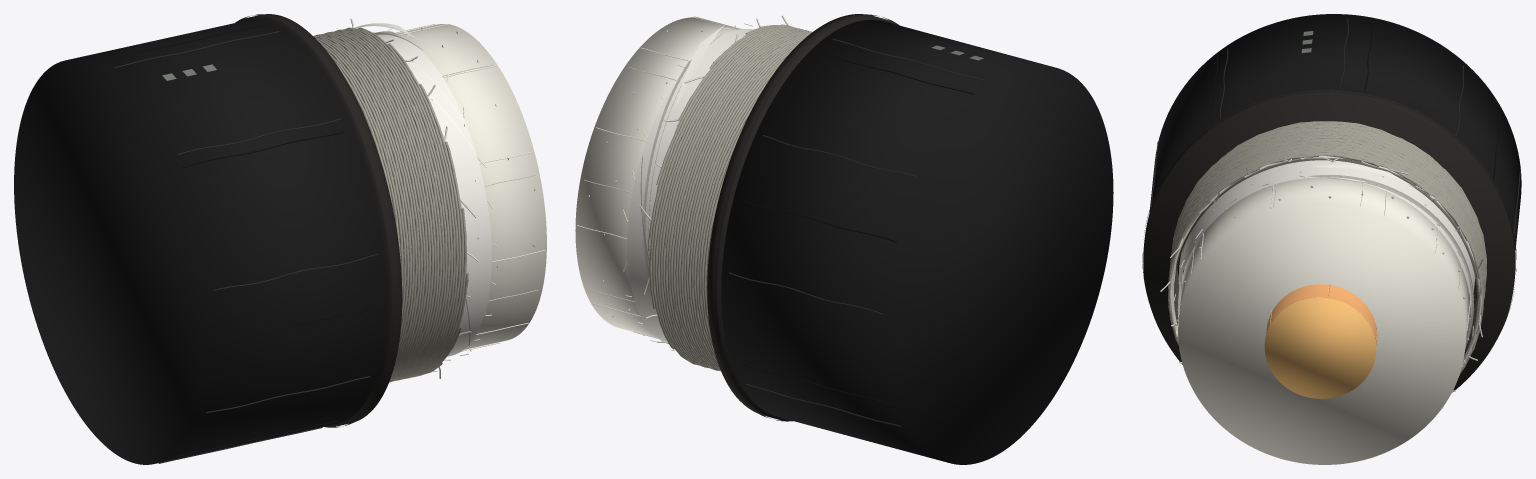
The model's file is rf-lmr900-macro.glb.
3 views of the same model, side by side, from view 1: azimuth 30°, elevation 25°; view 2: azimuth 150°, elevation 25°; view 3: azimuth 270°, elevation 25° (orthographic). The views are drawn at different scales.
Visible parts, largest first — view 1: macro jacket body, macro dielectric exposed core, continuous foil sleeve under braid, thick jacket cut wall, rounded jacket cut lip, macro braid shadow carrier 06 strand 1, macro braid shadow carrier 07 strand 1, macro braid shadow carrier 04 strand 1, macro braid shadow carrier 05 strand 1, macro braid shadow carrier 08 strand 1, macro braid shadow carrier 03 strand 1, macro braid shadow carrier 02 strand 1 (+25 smaller); view 2: macro jacket body, macro dielectric exposed core, continuous foil sleeve under braid, thick jacket cut wall, rounded jacket cut lip, macro braid shadow carrier 01 strand 1, macro braid shadow carrier 02 strand 1, macro braid shadow carrier 16 strand 1, macro braid shadow carrier 03 strand 1, macro braid shadow carrier 15 strand 1, macro braid shadow carrier 14 strand 1, macro braid shadow carrier 04 strand 1 (+24 smaller); view 3: macro dielectric exposed core, macro jacket body, thick jacket cut wall, polished conductor cut face glow, continuous foil sleeve under braid, polished solid center conductor, shadow seen through braid windows, raised foil lap seam, rounded jacket cut lip, macro braid shadow carrier 03 strand 3, macro braid shadow carrier 02 strand 3, macro braid shadow carrier 11 strand 3 (+27 smaller).
Part boxes in pixels (x1,y1,x2,y2): macro jacket body: (14,19,387,464); macro dielectric exposed core: (396,24,546,349); continuous foil sleeve under braid: (377,34,491,356); thick jacket cut wall: (235,14,402,427); rounded jacket cut lip: (235,14,396,427); macro braid shadow carrier 06 strand 1: (316,28,455,371); macro braid shadow carrier 07 strand 1: (324,39,457,376); macro braid shadow carrier 04 strand 1: (320,28,449,378); macro braid shadow carrier 05 strand 1: (316,28,452,378); macro braid shadow carrier 08 strand 1: (314,35,461,377); macro braid shadow carrier 03 strand 1: (321,29,447,373); macro braid shadow carrier 02 strand 1: (327,30,444,382); macro jacket body: (721,19,1113,464); macro dielectric exposed core: (575,17,739,338); continuous foil sleeve under braid: (627,29,753,343); thick jacket cut wall: (707,14,898,420); rounded jacket cut lip: (712,14,899,421); macro braid shadow carrier 01 strand 1: (652,29,807,360); macro braid shadow carrier 02 strand 1: (650,29,782,367); macro braid shadow carrier 16 strand 1: (655,29,797,364); macro braid shadow carrier 03 strand 1: (648,27,792,362); macro braid shadow carrier 15 strand 1: (657,31,808,356); macro braid shadow carrier 14 strand 1: (660,31,812,363); macro braid shadow carrier 04 strand 1: (656,26,801,370); macro dielectric exposed core: (1178,177,1469,464); macro jacket body: (1149,14,1521,250); thick jacket cut wall: (1143,89,1515,392); polished conductor cut face glow: (1264,297,1376,398); continuous foil sleeve under braid: (1177,160,1475,349); polished solid center conductor: (1266,284,1377,344); shadow seen through braid windows: (1174,159,1478,356); raised foil lap seam: (1178,175,1473,343); rounded jacket cut lip: (1142,89,1516,334); macro braid shadow carrier 03 strand 3: (1172,131,1485,290); macro braid shadow carrier 02 strand 3: (1176,131,1483,344); macro braid shadow carrier 11 strand 3: (1168,122,1486,345).
Bounding box in the file's own units: 6.6 × 6.07 × 6.15.
